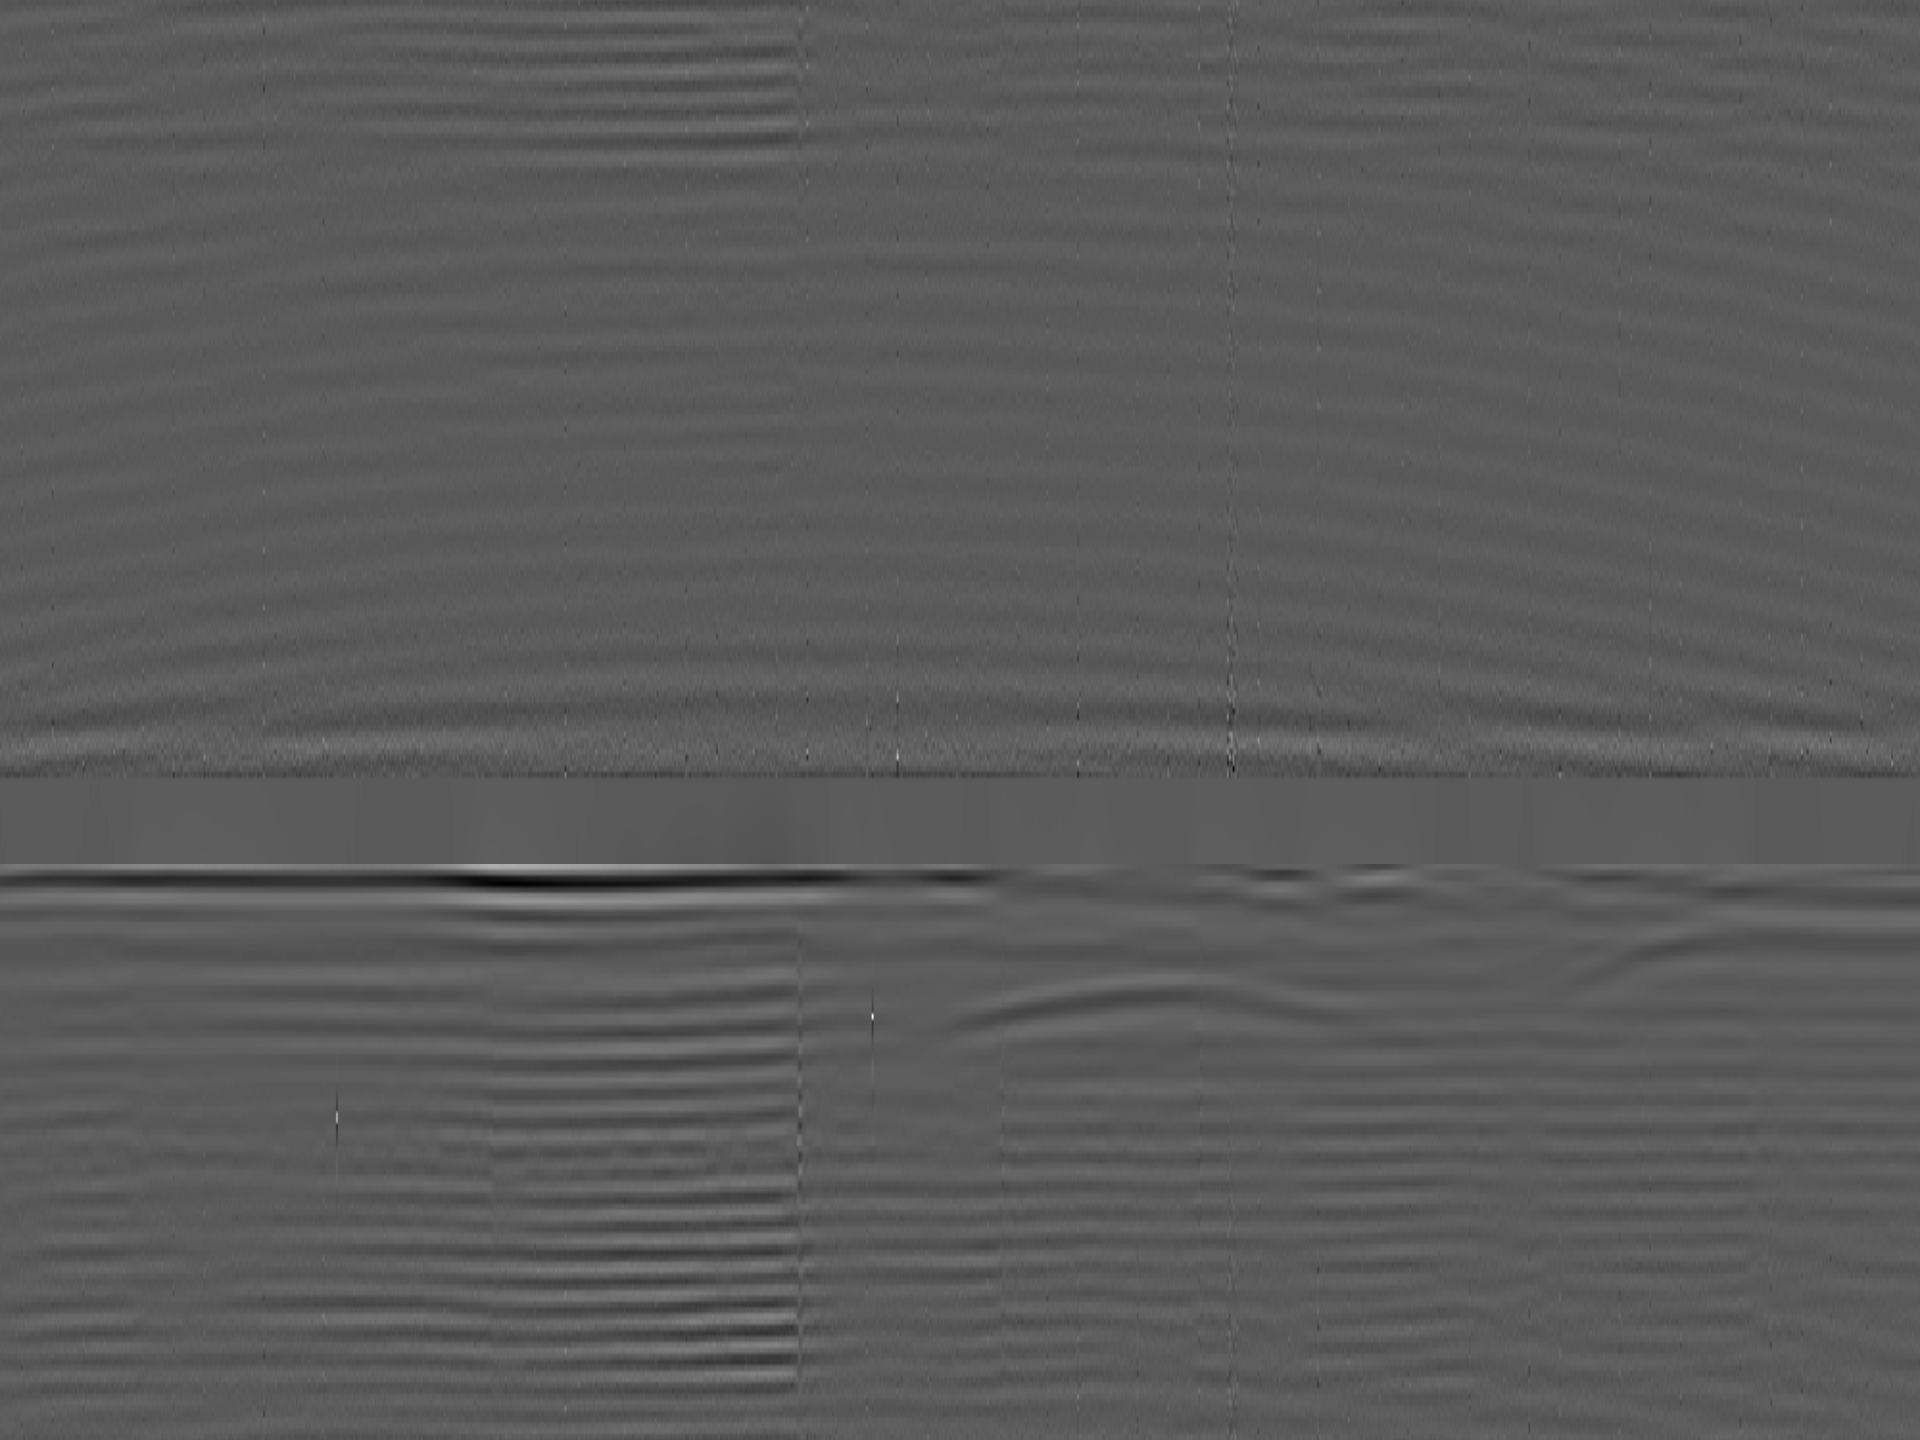Tunnel: (933, 968, 1333, 1060)
